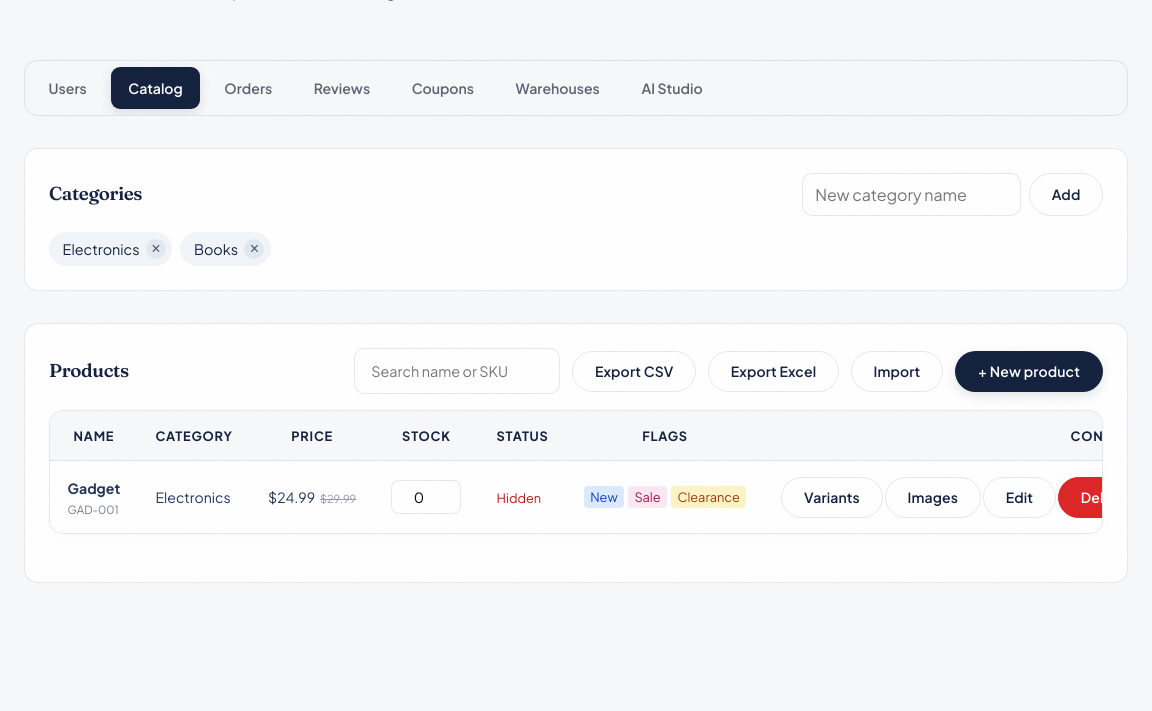
Scenario: AdminCatalogPage — product form › pre-fills flag fields when editing a product
(page scrolled)
Expected: the text "Gadget" is shown, [68,479,120,497]
Click the button "Edit" at (1019, 497), box [983,477,1056,518]
(page scrolled)
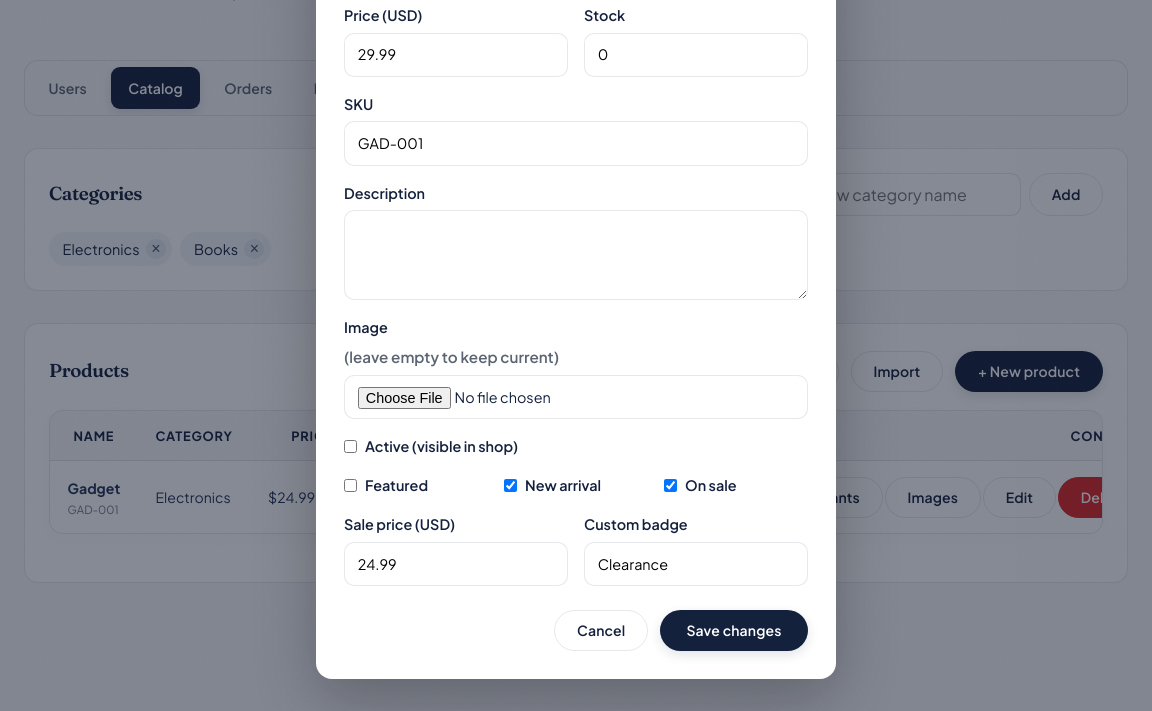
Expected: the field showing "Clearance" is shown, [584,542,808,586]
Expected: the number field showing "24.99" is shown, [344,542,568,586]
Expected: the checkbox labelled "On sale" is checked, [664,479,677,492]
